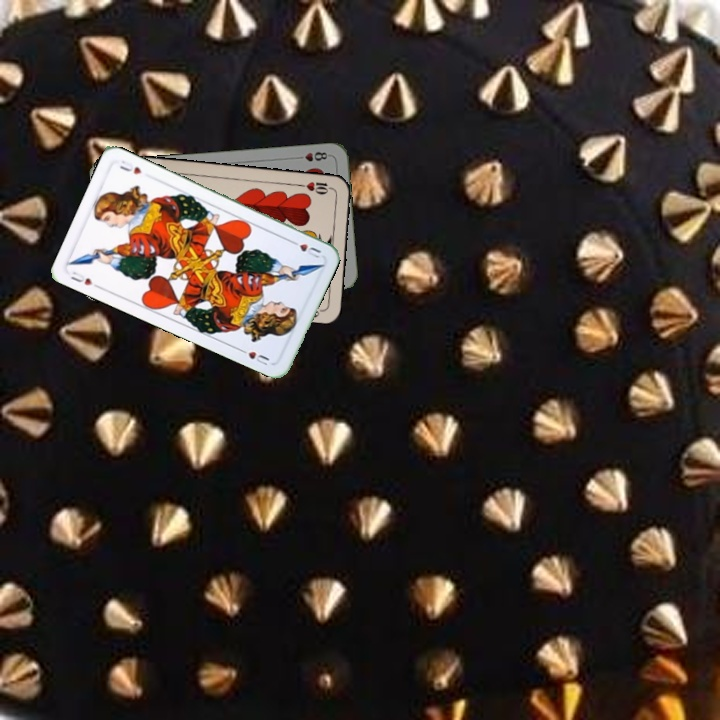H10: (296, 178, 336, 197)
H8: (292, 148, 332, 164)
HU: (286, 236, 324, 260), (67, 267, 95, 288)
